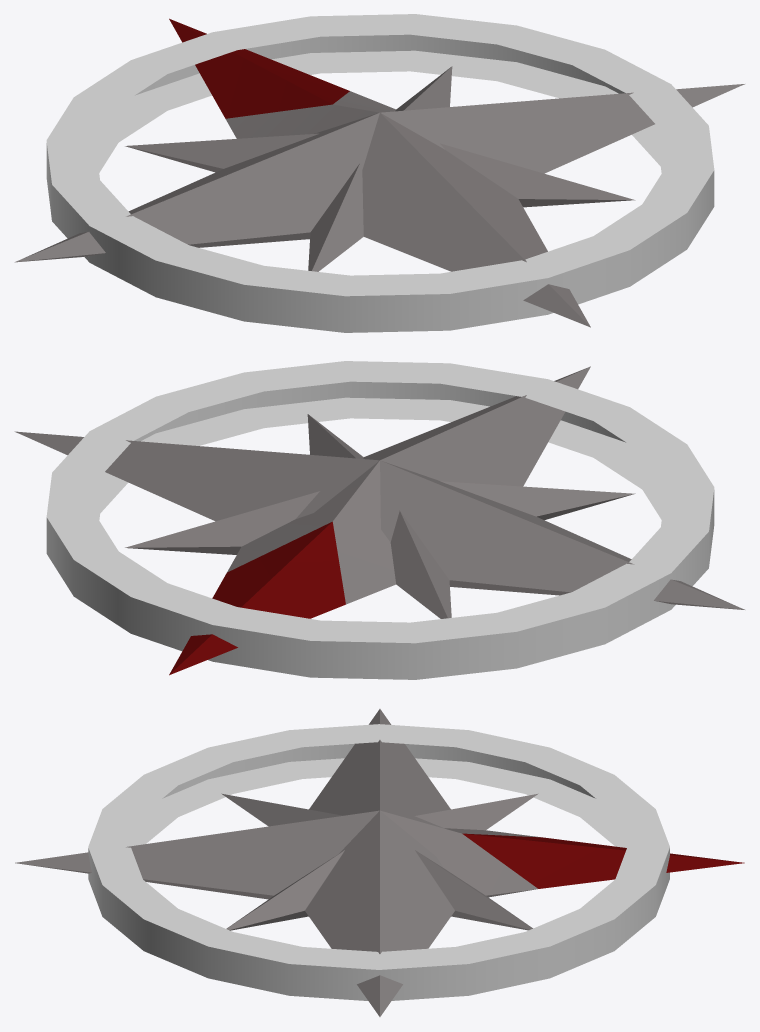
The model's file is compass.fbx.
3 views of the same model, one above another, from view 1: azimuth 30°, elevation 25°; view 2: azimuth 150°, elevation 25°; view 3: azimuth 270°, elevation 25° (orthographic). The views are drawn at different scales.
Parts seen in each view (by area): view 1: pCylinder1, pCone9; view 2: pCylinder1, pCone9; view 3: pCylinder1, pCone9.
Part boxes in pixels (x1,y1,x2,y2): pCylinder1: (46,14,714,332); pCone9: (14,18,744,327); pCylinder1: (46,361,714,679); pCone9: (14,366,744,675); pCylinder1: (88,724,669,1000); pCone9: (15,709,744,1016).
Bounding box in the file's own units: 6.72 × 1.06 × 6.71.
